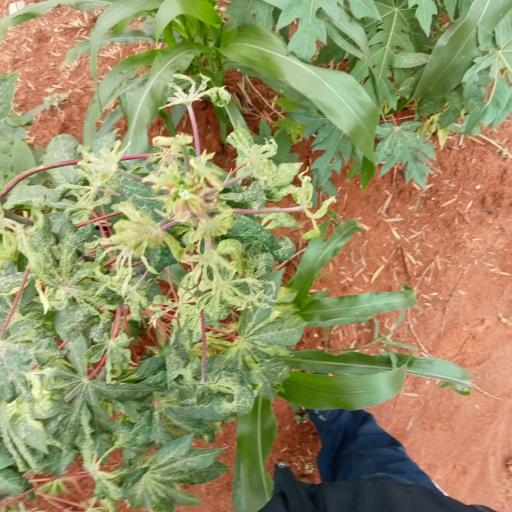Cassava_Mosaic: (206, 284, 301, 390), (52, 338, 148, 430), (19, 217, 112, 304)
